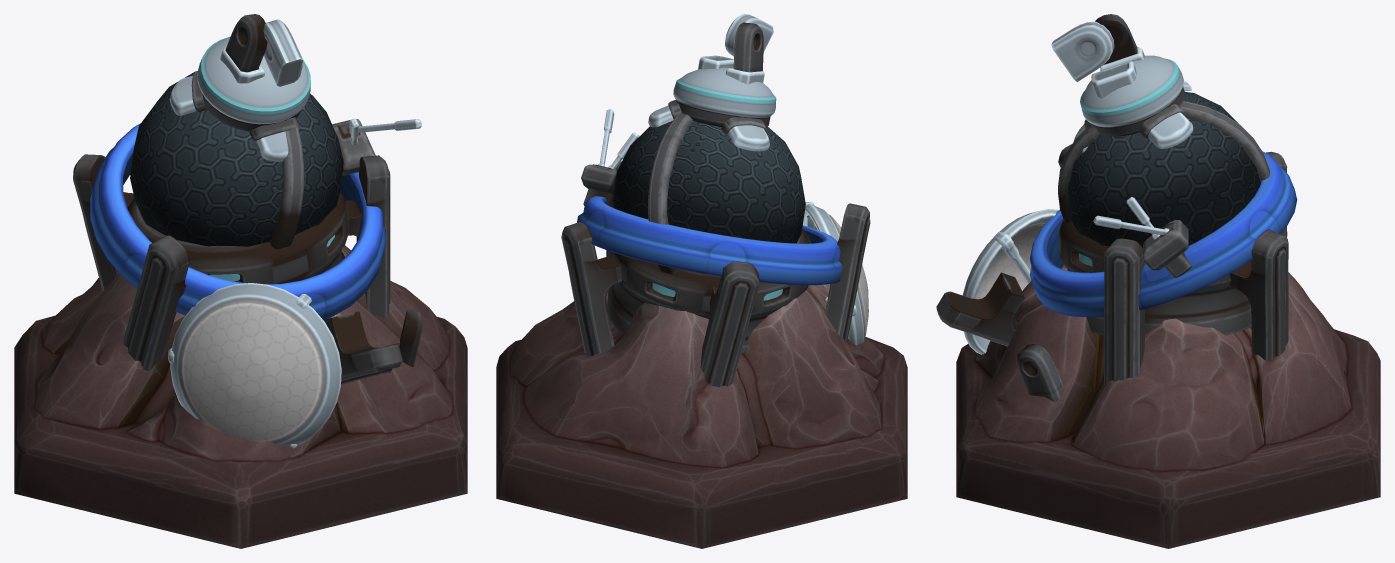
The model's file is CC_lvl1_dstr.fbx.
The picture shows the model from 3 angles, left to right: view 1: azimuth 30°, elevation 25°; view 2: azimuth 150°, elevation 25°; view 3: azimuth 270°, elevation 25°; orthographic projection. The views are drawn at different scales.
Parts seen in each view (by area): view 1: CC_lvl1_destr1; view 2: CC_lvl1_destr1; view 3: CC_lvl1_destr1.
Boxes of the visible parts, bbox=[...] form: CC_lvl1_destr1: bbox=[14, 14, 467, 548]; CC_lvl1_destr1: bbox=[496, 14, 907, 548]; CC_lvl1_destr1: bbox=[936, 14, 1380, 548].
Size of the model in its own units: 7.51 by 7.13 by 6.81.
